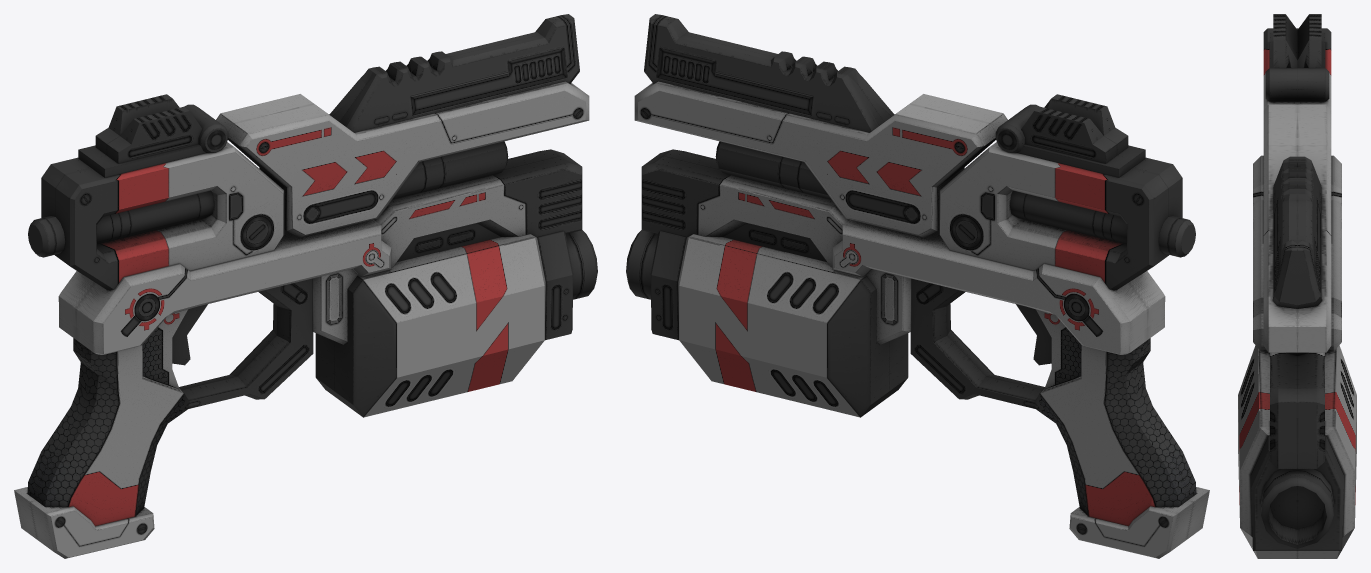
Rendered from gun-orig.glb.
3 views of the same model, side by side, from view 1: azimuth 30°, elevation 25°; view 2: azimuth 150°, elevation 25°; view 3: azimuth 270°, elevation 25° (orthographic). The views are drawn at different scales.
Visible parts, largest first — view 1: BaseMesh; view 2: BaseMesh; view 3: BaseMesh.
Boxes of the visible parts, left/top/right/bottom form: BaseMesh: left=14, top=14, right=597, bottom=558; BaseMesh: left=626, top=14, right=1209, bottom=558; BaseMesh: left=1238, top=14, right=1356, bottom=558.
Bounding box in the file's own units: 6.83 × 4.87 × 1.21.
Materials: 1 (1 with a texture image).
